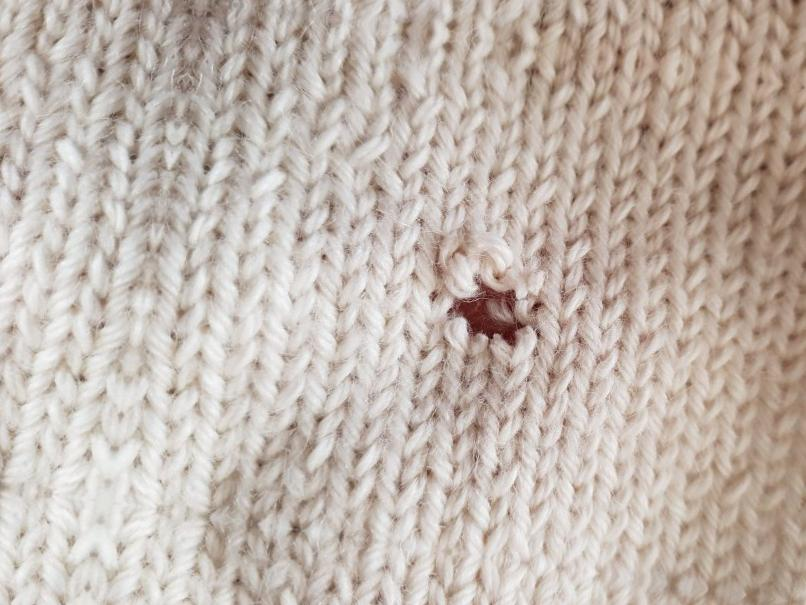hole: (444, 271, 550, 361)
